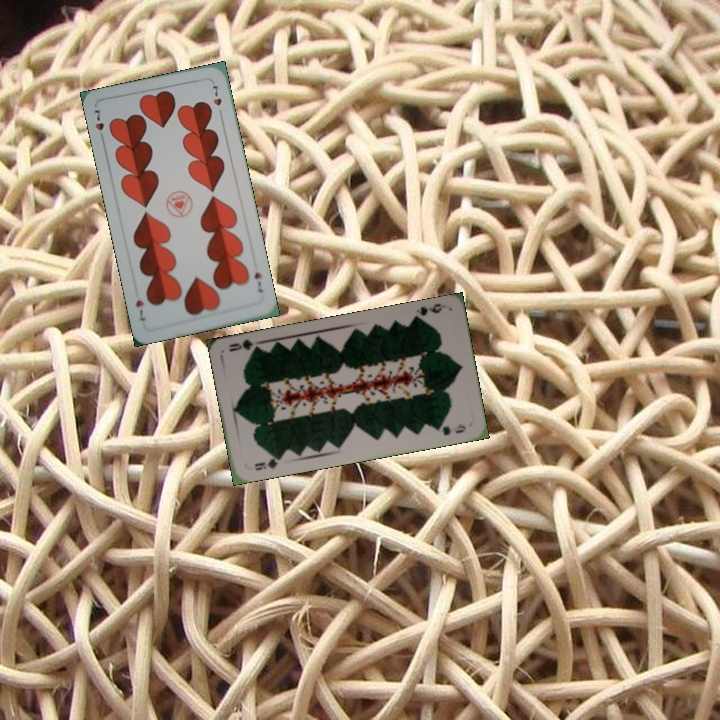G9: (409, 299, 444, 323), (251, 452, 284, 473)
H7: (90, 106, 107, 144), (250, 268, 265, 295)
